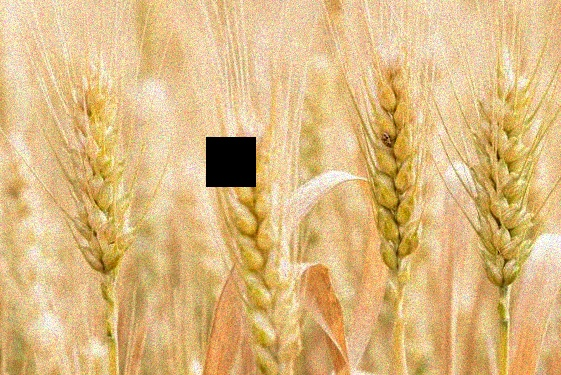wheat: (214, 121, 314, 368), (364, 38, 423, 310), (66, 56, 131, 300), (473, 58, 534, 305)
